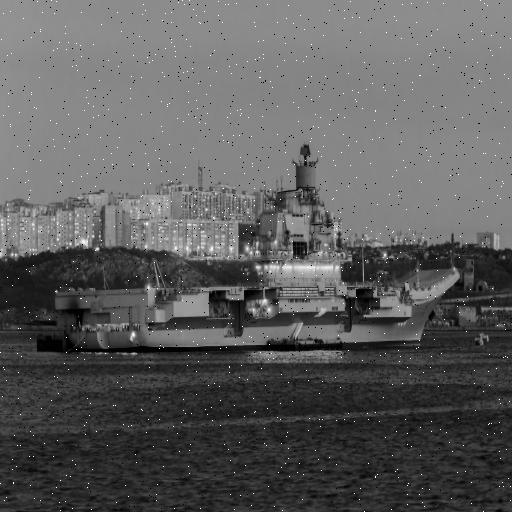Portanaves: (44, 134, 467, 353)
